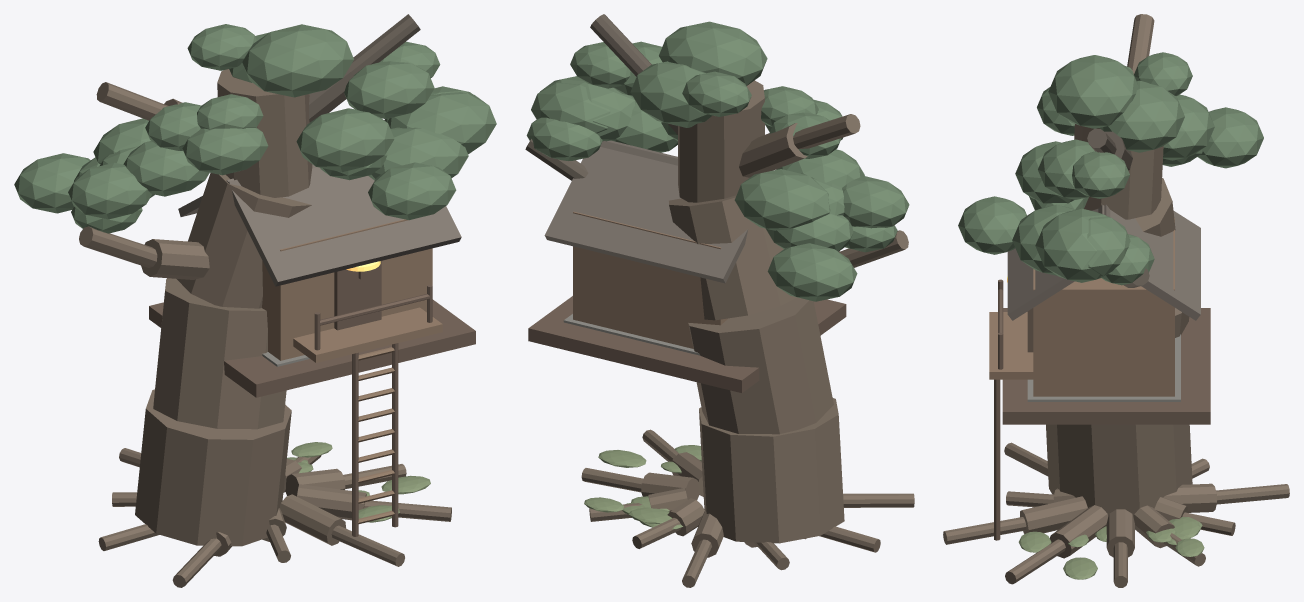
File: Midgard_Deep_Grove_Treehouse_V1_YUP.glb
3 renders of one model, left to right at view 1: azimuth 30°, elevation 25°; view 2: azimuth 150°, elevation 25°; view 3: azimuth 270°, elevation 25°, orthographic. The views are drawn at different scales.
Visible parts, largest first — view 1: Trunk_0, Roof_1, Trunk_1, Trunk_2, Cabin, Platform, Trunk_3, Leaf_16, Leaf_3, Leaf_17, Balcony, Leaf_6 (+28 smaller); view 2: Trunk_0, Roof_-1, Trunk_1, Cabin, Trunk_2, Platform, Trunk_3, Leaf_16, Leaf_19, Leaf_12, Leaf_2, Leaf_7 (+33 smaller); view 3: Cabin, Trunk_0, Platform, Leaf_16, Roof_-1, Leaf_2, Leaf_11, Trunk_3, Leaf_6, Leaf_12, Balcony, Roof_1 (+30 smaller).
Part boxes in pixels (bbox=[...]): Trunk_0: bbox=[135, 389, 291, 546]; Roof_1: bbox=[226, 167, 461, 286]; Trunk_1: bbox=[153, 278, 286, 429]; Trunk_2: bbox=[177, 173, 311, 308]; Cabin: bbox=[262, 219, 432, 360]; Platform: bbox=[149, 299, 475, 397]; Trunk_3: bbox=[217, 69, 312, 197]; Leaf_16: bbox=[242, 24, 353, 97]; Leaf_3: bbox=[296, 108, 394, 172]; Leaf_17: bbox=[344, 61, 434, 118]; Balcony: bbox=[293, 307, 442, 362]; Leaf_6: bbox=[368, 162, 456, 220]; Trunk_0: bbox=[699, 398, 844, 543]; Roof_-1: bbox=[544, 140, 747, 283]; Trunk_1: bbox=[688, 297, 833, 434]; Cabin: bbox=[573, 211, 727, 348]; Trunk_2: bbox=[669, 195, 796, 320]; Platform: bbox=[528, 296, 846, 392]; Trunk_3: bbox=[678, 80, 764, 202]; Leaf_16: bbox=[659, 21, 767, 85]; Leaf_19: bbox=[734, 169, 830, 230]; Leaf_12: bbox=[767, 243, 857, 301]; Leaf_2: bbox=[630, 61, 712, 127]; Leaf_7: bbox=[842, 176, 909, 228]; Cabin: bbox=[1033, 218, 1174, 396]; Trunk_0: bbox=[1046, 424, 1192, 515]; Platform: bbox=[1002, 308, 1210, 424]; Leaf_16: bbox=[1048, 55, 1138, 128]; Roof_-1: bbox=[1098, 204, 1200, 320]; Leaf_2: bbox=[1099, 80, 1184, 152]; Leaf_11: bbox=[1035, 208, 1106, 282]; Trunk_3: bbox=[1074, 124, 1163, 219]; Leaf_6: bbox=[958, 196, 1026, 254]; Leaf_12: bbox=[1197, 107, 1263, 168]; Balcony: bbox=[989, 312, 1033, 379]; Roof_1: bbox=[1007, 204, 1110, 320].
Size of the model in its own units: 9.45 by 11.03 by 7.35.
